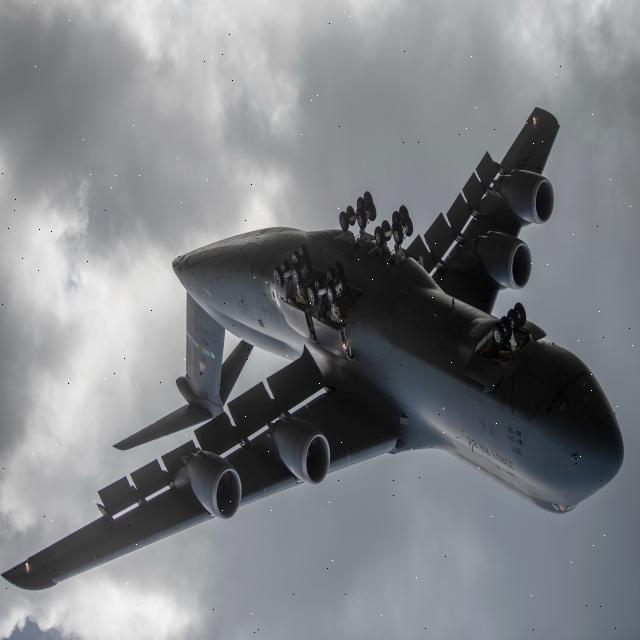C5: (1, 69, 640, 630)
